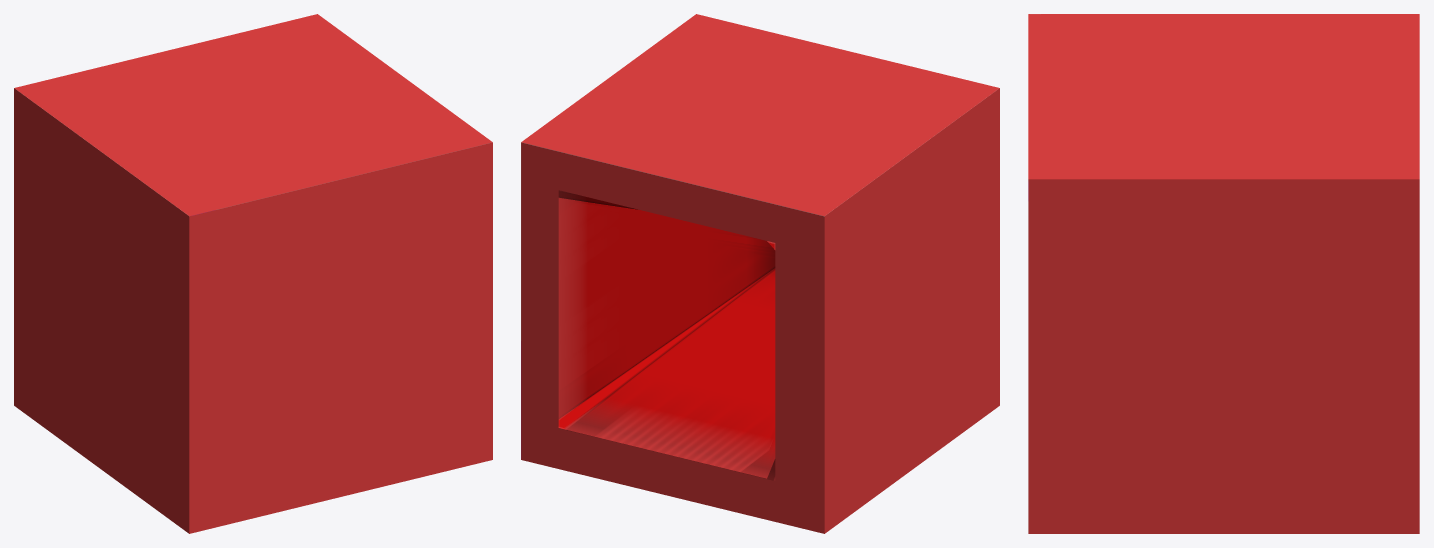
The model's file is port-red.fbx.
3 views of the same model, side by side, from view 1: azimuth 30°, elevation 25°; view 2: azimuth 150°, elevation 25°; view 3: azimuth 270°, elevation 25° (orthographic). The views are drawn at different scales.
Parts seen in each view (by area): view 1: Cube; view 2: Cube; view 3: Cube.
Part boxes in pixels (box(x1,y1,x2,y2)): Cube: box(14, 14, 492, 533); Cube: box(521, 14, 999, 533); Cube: box(1028, 14, 1419, 533).
Size of the model in its own units: 200 by 200 by 200.
Materials: 1 (1 with a texture image).
